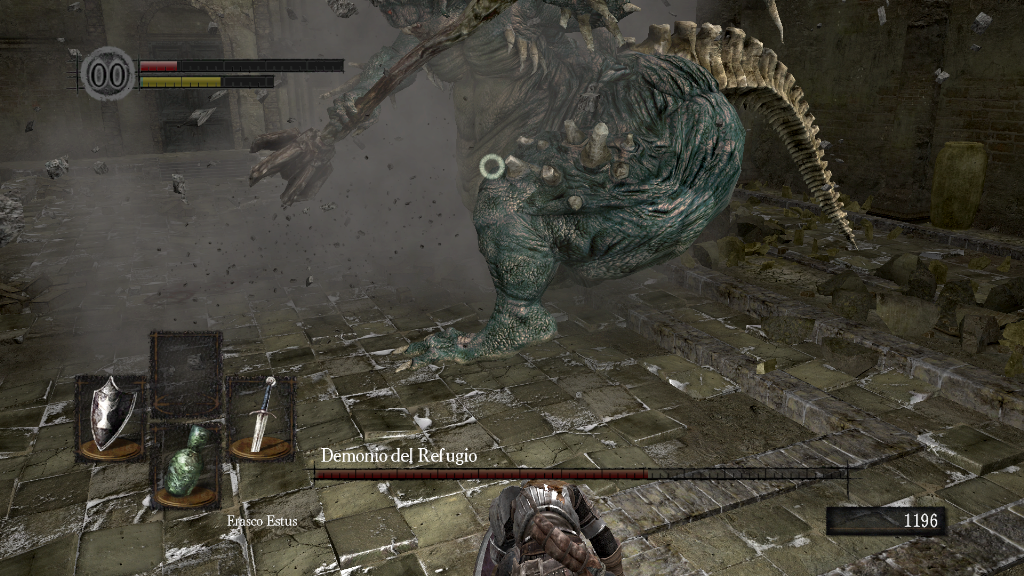asylumDemon: (247, 2, 861, 376)
bossHP: (314, 469, 847, 479)
health: (138, 58, 343, 71)
humanity: (80, 45, 136, 102)
player: (472, 481, 626, 576)
souls: (825, 506, 945, 536)
stamina: (138, 74, 274, 88)
